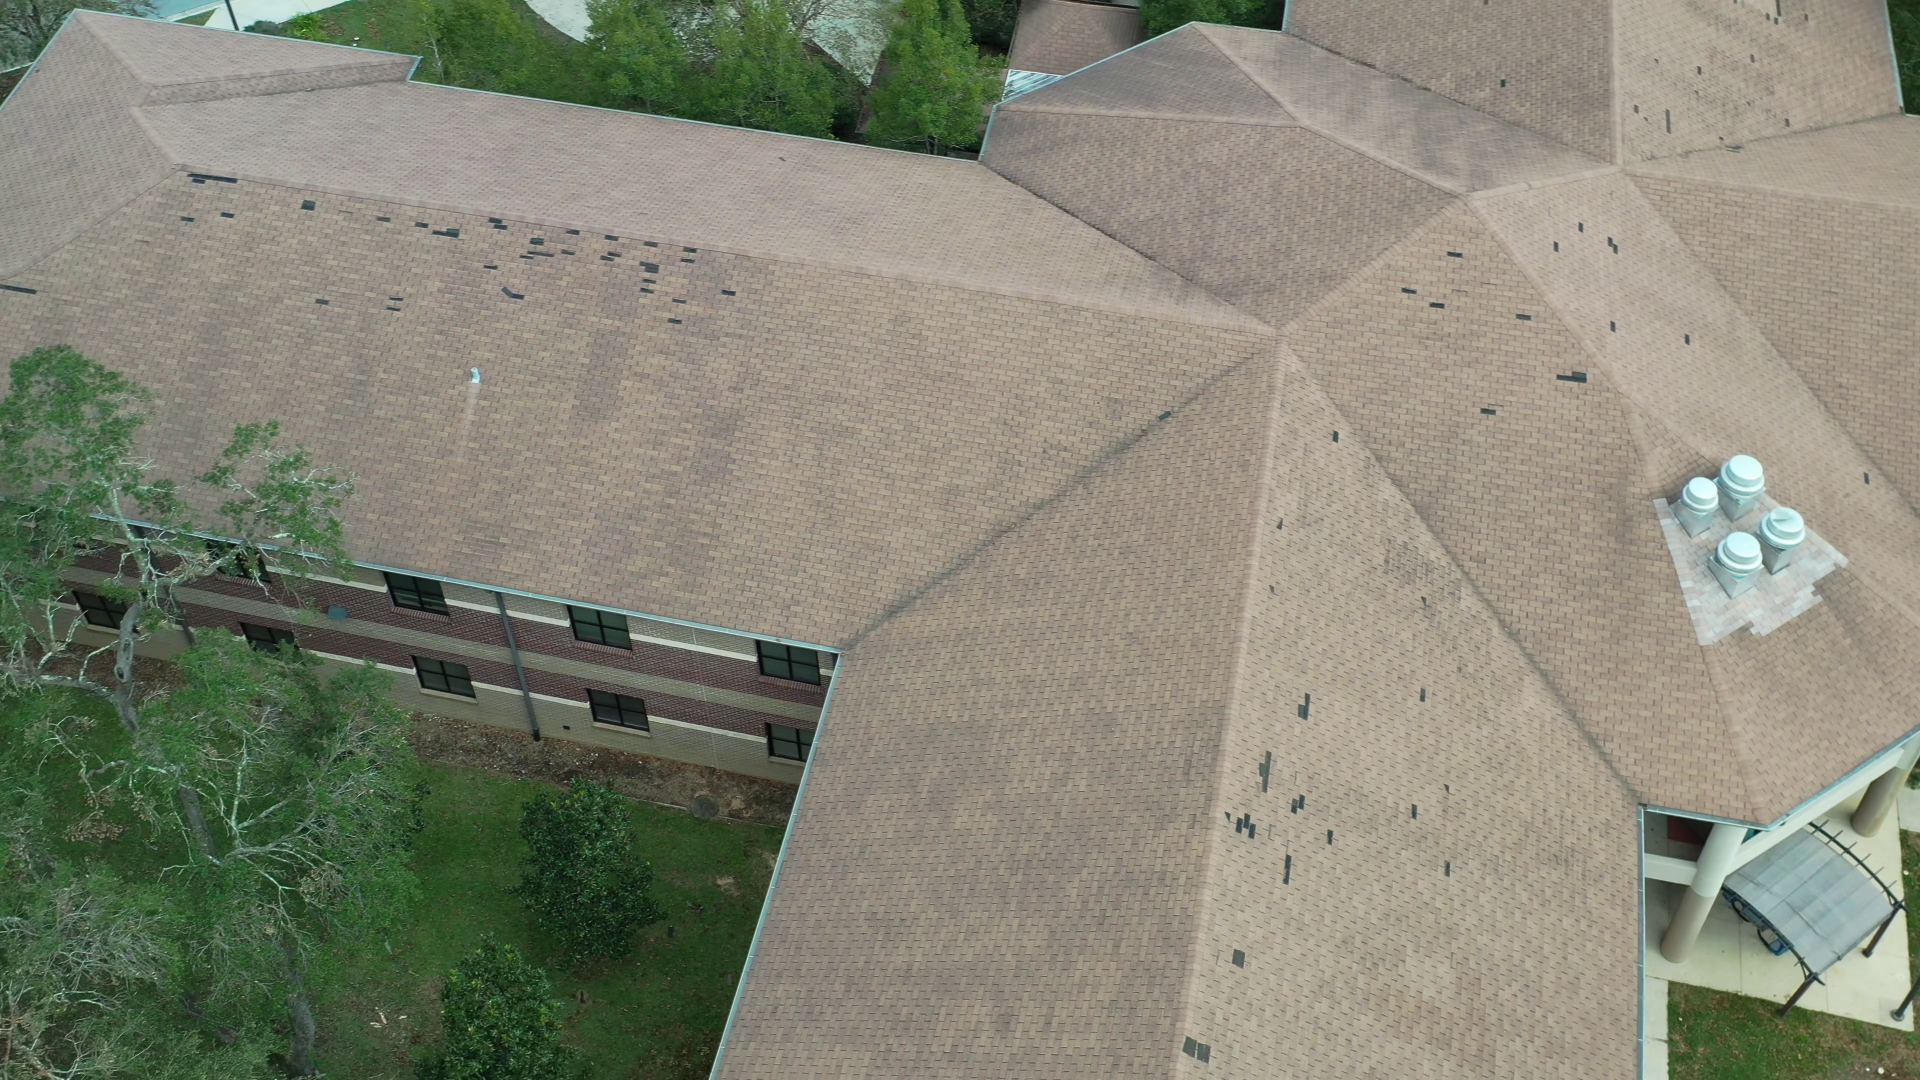Light: (375, 215, 736, 324), (1225, 750, 1335, 885), (1411, 785, 1451, 877), (182, 171, 239, 223), (1578, 223, 1619, 255), (1633, 105, 1673, 135), (1400, 287, 1445, 310), (1182, 1036, 1211, 1064), (1553, 372, 1588, 384), (1298, 692, 1311, 720), (1232, 947, 1246, 971), (301, 200, 316, 212), (1478, 406, 1497, 415), (314, 297, 331, 306), (1515, 313, 1532, 320), (1419, 687, 1425, 703), (1447, 252, 1462, 258), (1332, 429, 1338, 443), (1684, 331, 1691, 345), (1609, 320, 1615, 334), (1552, 240, 1559, 253)
